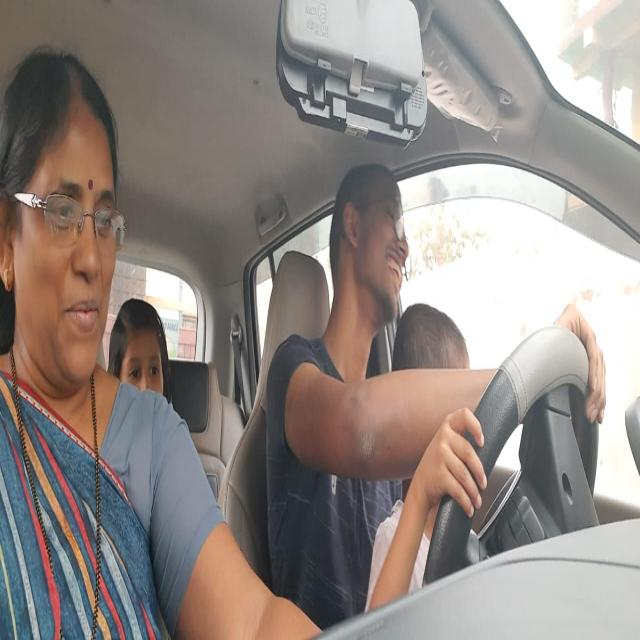child: (393, 304, 471, 471)
person: (3, 39, 123, 408), (327, 154, 417, 346), (108, 298, 171, 424)
